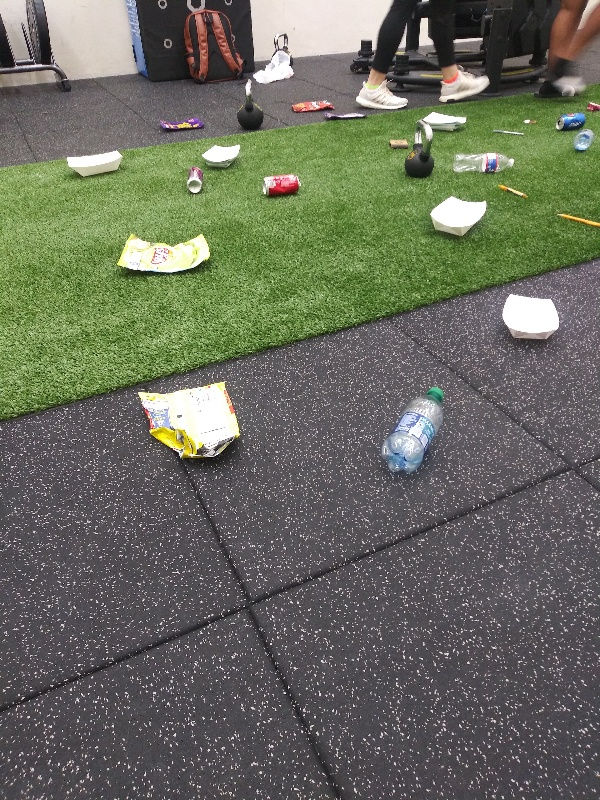bag: (127, 379, 243, 463), (108, 227, 215, 282), (157, 113, 201, 133), (289, 96, 334, 112), (326, 110, 370, 121)
bottle: (378, 378, 447, 482), (449, 149, 519, 177), (570, 125, 596, 153)
can: (257, 171, 308, 198), (552, 108, 588, 138), (181, 163, 208, 195)
plate: (493, 291, 562, 344), (424, 194, 495, 242), (57, 151, 126, 182), (419, 110, 471, 137), (198, 143, 246, 169)
